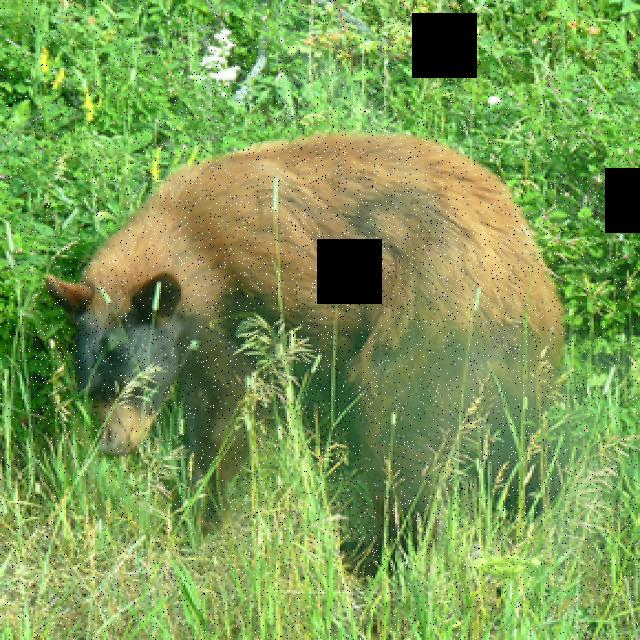Bear: (58, 128, 567, 561)
